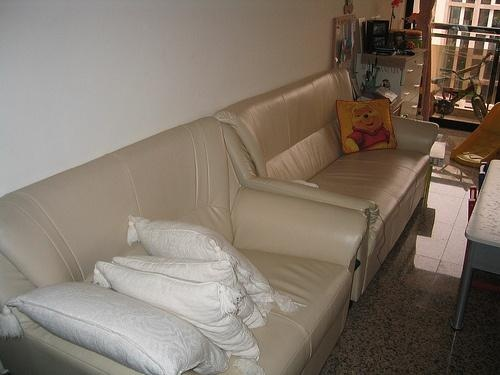bicycle: (433, 51, 494, 124)
sofa: (1, 118, 369, 375), (213, 66, 443, 301)
